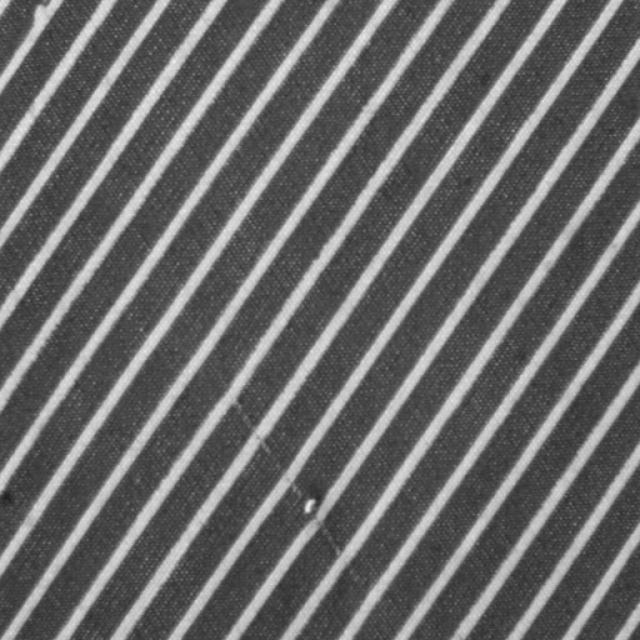Hole-Defect: (221, 384, 379, 596)
